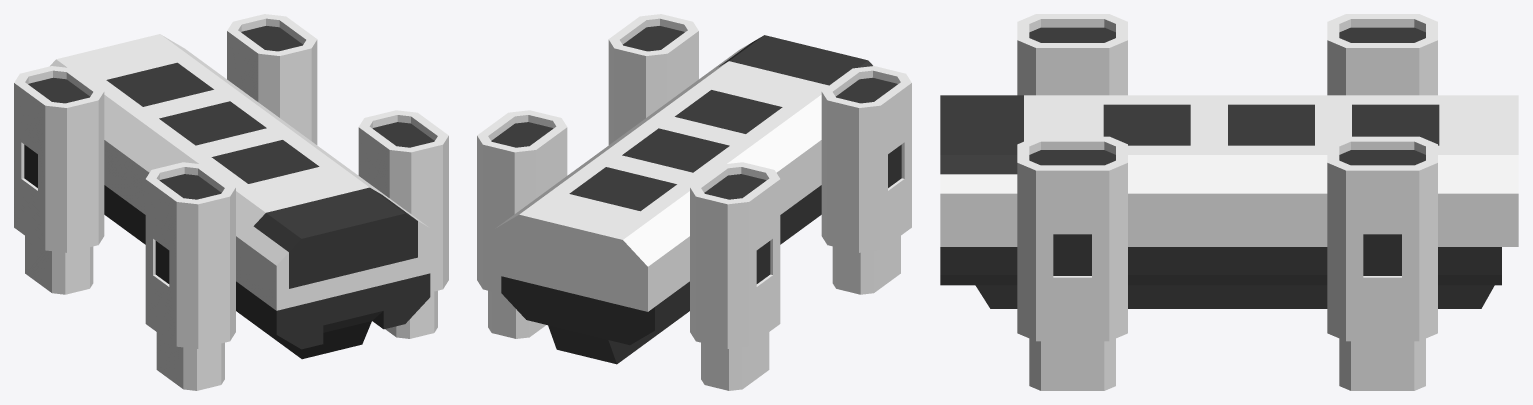
File: Spaceship.fbx
3 renders of one model, left to right at view 1: azimuth 30°, elevation 25°; view 2: azimuth 150°, elevation 25°; view 3: azimuth 270°, elevation 25°, orthographic. The views are drawn at different scales.
Visible parts, largest first — view 1: Spaceship_Mesh, FrontThrusters_Mesh, RearThrusters_Mesh, FrontThrusters_FX, RearThrusters_FX; view 2: Spaceship_Mesh, RearThrusters_Mesh, FrontThrusters_Mesh, RearThrusters_FX, FrontThrusters_FX; view 3: Spaceship_Mesh, FrontThrusters_Mesh, RearThrusters_Mesh, FrontThrusters_FX, RearThrusters_FX.
Boxes of the visible parts, x1,y1,x2,y2 form: Spaceship_Mesh: (50,34,430,359); FrontThrusters_Mesh: (145,110,448,348); RearThrusters_Mesh: (14,14,317,252); FrontThrusters_FX: (156,290,437,390); RearThrusters_FX: (25,236,93,294); Spaceship_Mesh: (494,35,872,364); RearThrusters_Mesh: (477,110,780,348); FrontThrusters_Mesh: (608,14,911,252); RearThrusters_FX: (488,290,769,390); FrontThrusters_FX: (832,236,900,294); Spaceship_Mesh: (940,95,1518,308); FrontThrusters_Mesh: (1017,14,1127,341); RearThrusters_Mesh: (1327,14,1437,341); FrontThrusters_FX: (1029,338,1115,390); RearThrusters_FX: (1339,338,1425,390).
Size of the model in its own units: 1.8 by 1.21 by 2.82.
